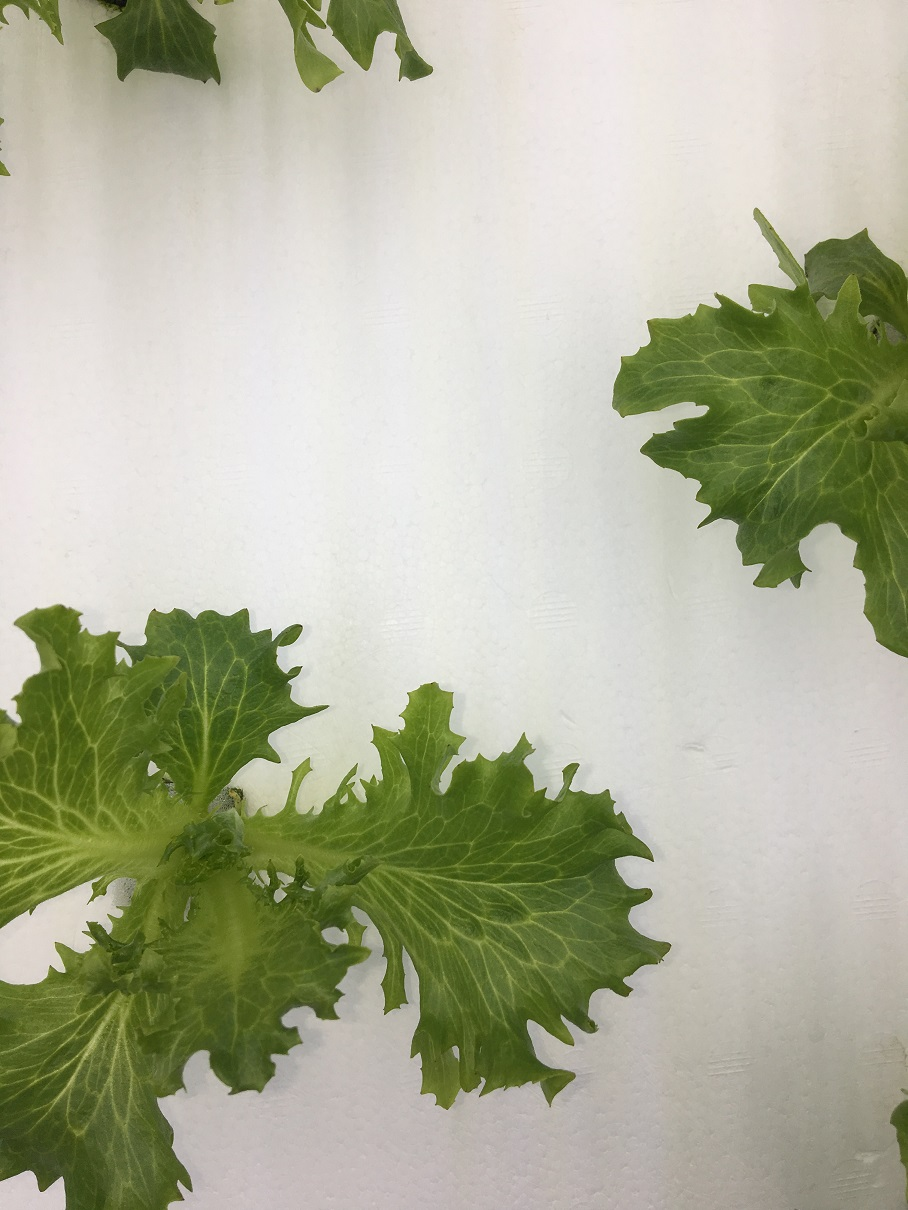tipburn: (292, 611, 333, 643), (309, 82, 326, 98), (215, 75, 231, 90), (193, 75, 210, 89), (667, 416, 680, 429)
